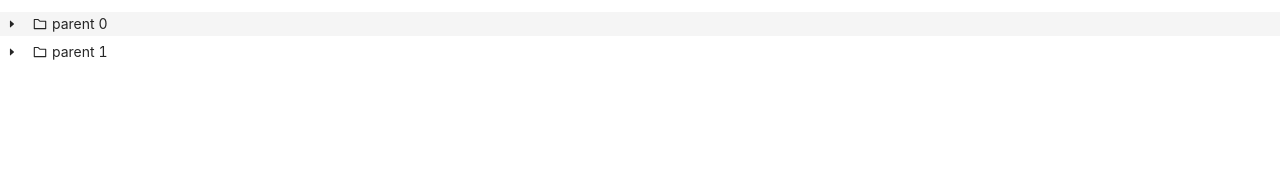
it: ex4 --- <Tree /> › expand / collapse
Expected: the element showing "parent 0 parent 1" does not show "0-0", top-left (0, 12), bottom-right (1279, 68)
Expected: the element showing "parent 0 parent 1" does not show "0-1", top-left (0, 12), bottom-right (1279, 68)
What coordinates should you click on to do the following:
click the text "parent 0"
I would click on:
 (80, 24)
Its box is top-left (52, 15), bottom-right (108, 32).
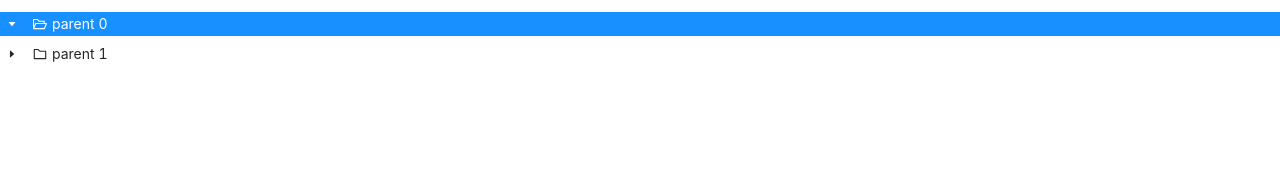
Result: the element showing "parent 0 0-0 0-1 parent 1" is shown at top-left (0, 12), bottom-right (1279, 73)
What coordinates should you click on to do the following:
click the text "parent 0"
I would click on:
 (80, 24)
Its box is top-left (52, 15), bottom-right (108, 32).
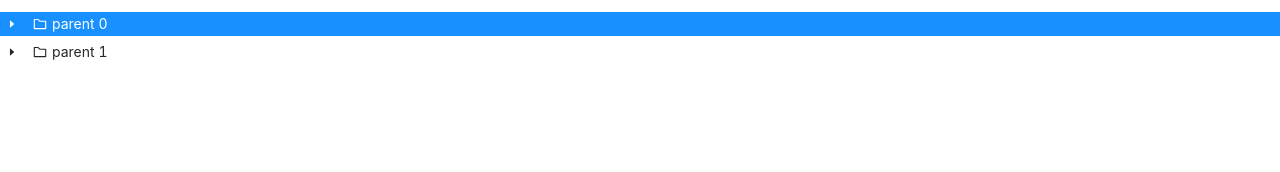
Result: the element showing "parent 0 parent 1" no longer shows "0-0" at top-left (0, 12), bottom-right (1279, 68)
Result: the element showing "parent 0 parent 1" no longer shows "0-1" at top-left (0, 12), bottom-right (1279, 68)
